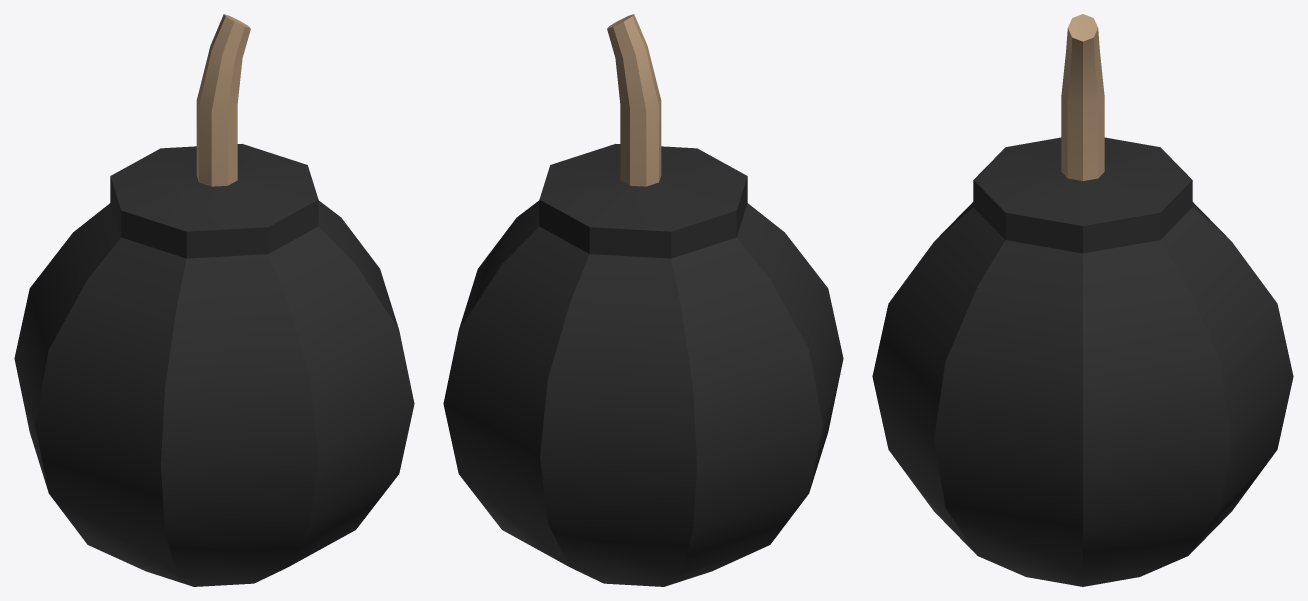
Rendered from Grenade_01.fbx.
The picture shows the model from 3 angles, left to right: view 1: azimuth 30°, elevation 25°; view 2: azimuth 150°, elevation 25°; view 3: azimuth 270°, elevation 25°; orthographic projection.
Visible parts, largest first — view 1: Grenade_01_LOD0; view 2: Grenade_01_LOD0; view 3: Grenade_01_LOD0.
Part boxes in pixels (bbox=[...]): Grenade_01_LOD0: bbox=[14, 14, 414, 586]; Grenade_01_LOD0: bbox=[443, 14, 843, 586]; Grenade_01_LOD0: bbox=[872, 14, 1293, 586].
Size of what is drawn, in the model's own units: 0.1275 by 0.1821 by 0.1275.
